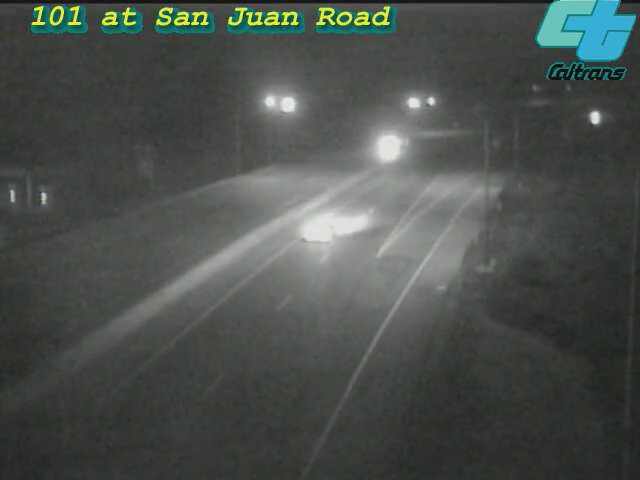vehicle: (280, 191, 360, 271), (362, 123, 412, 173), (571, 93, 621, 143)
